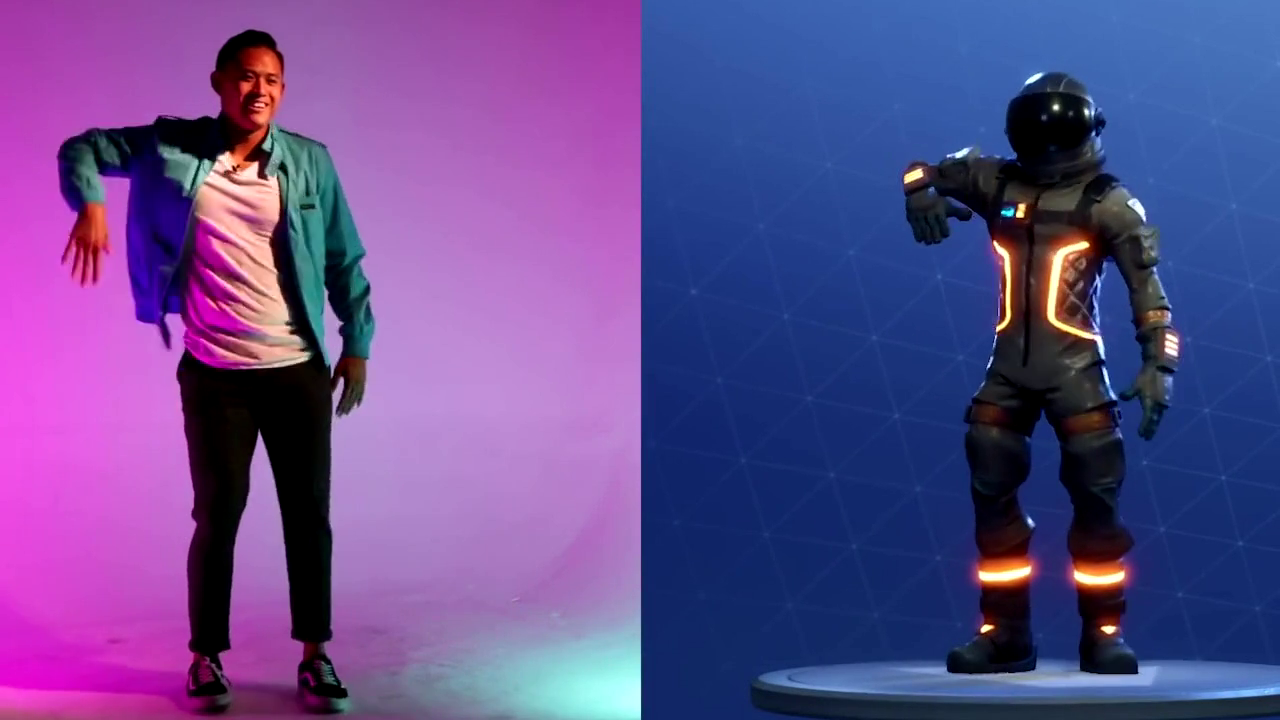Head: (199, 23, 280, 154)
Hip: (174, 340, 344, 446)
LeftAnkle: (277, 632, 379, 717)
LeftElbow: (315, 219, 384, 304)
LeftKnee: (267, 489, 350, 565)
LeftShoulder: (277, 127, 360, 209)
LeftWrist: (321, 342, 394, 423)
RightAnkle: (152, 614, 262, 716)
RightElbow: (37, 110, 107, 188)
RightKnee: (174, 489, 262, 558)
RightShoulder: (128, 99, 199, 196)
RightWrist: (36, 202, 118, 287)
Torso: (171, 114, 331, 360)
